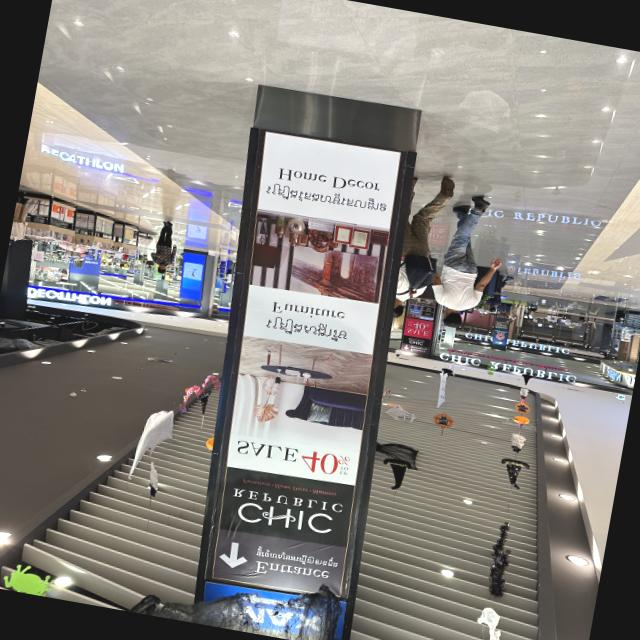Yolov11kh: (257, 177, 392, 224), (257, 312, 352, 347), (249, 542, 343, 570)
